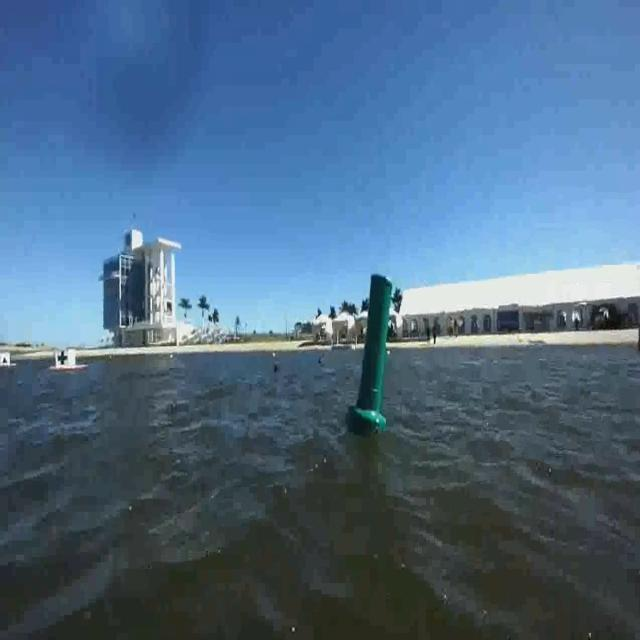green-column-buoy: (349, 271, 393, 434)
